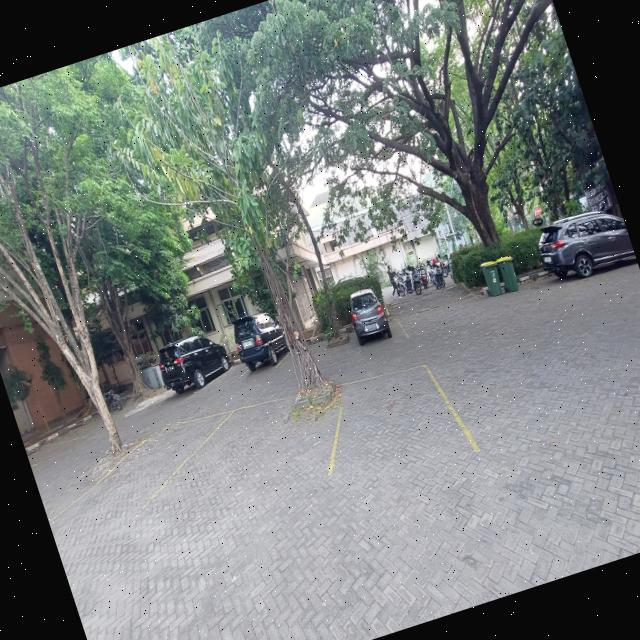empty: (52, 411, 234, 520), (145, 396, 298, 506), (328, 364, 478, 473), (196, 363, 249, 394), (277, 339, 327, 367)
occupied: (159, 335, 234, 399), (348, 290, 408, 354), (234, 313, 292, 377)
